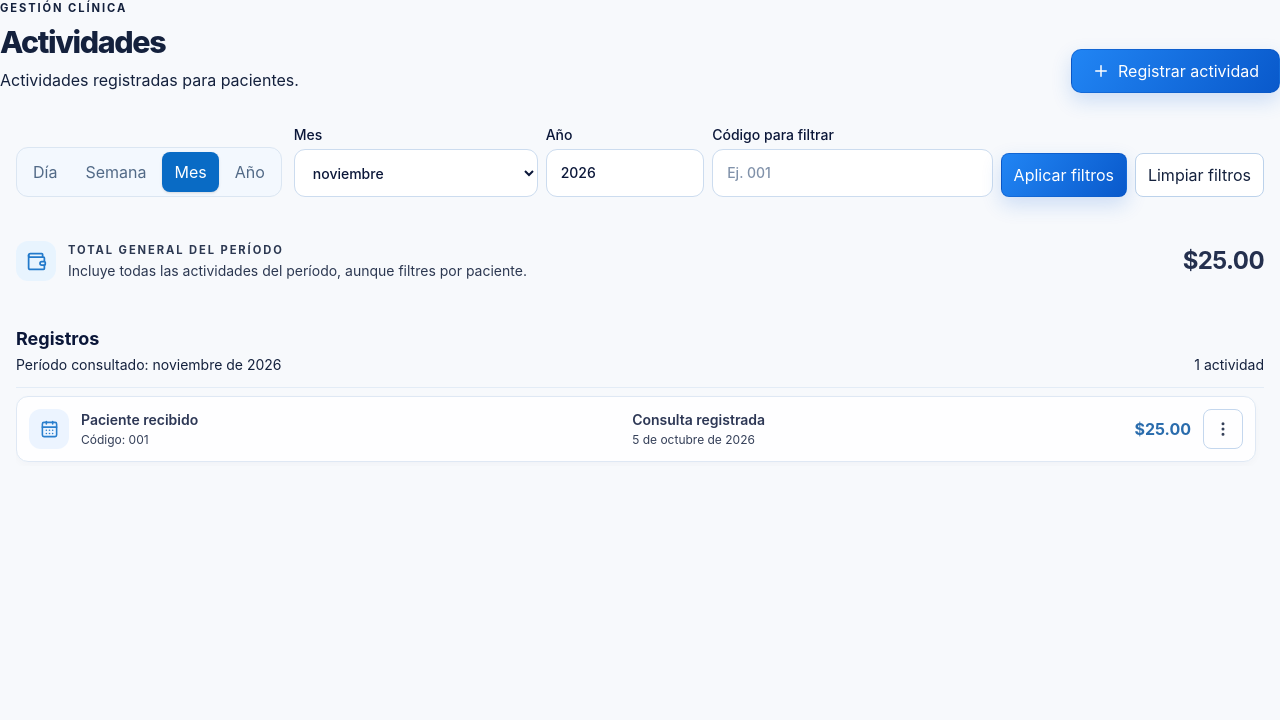
Scenario: ActivitiesPage › closes Editar actividad with a local exit transition and restores the trigger focus
Later steps or results of the test are not shown.
Expected: the text "Consulta registrada" is shown, [632,411,765,428]
Click the button named "Opciones de actividad para Paciente recibido" at {"x": 1223, "y": 429}, box [1203,409,1243,449]
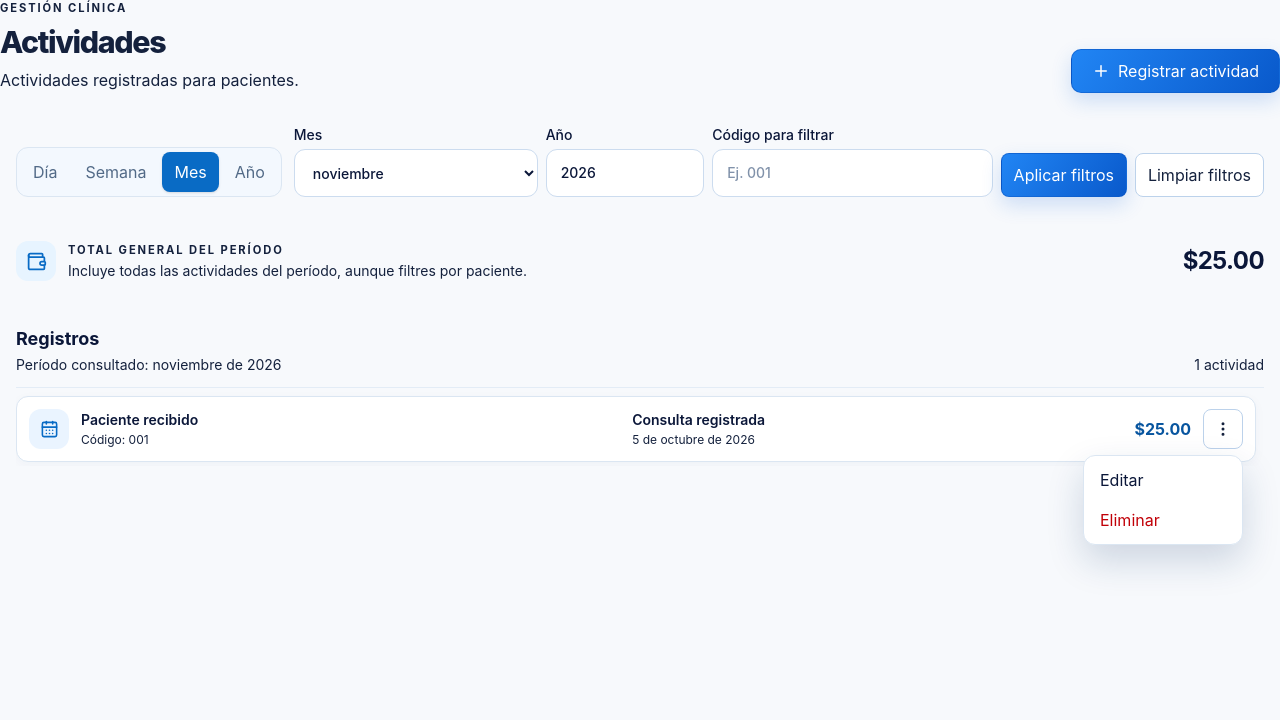
Click the menu item "Editar" at {"x": 1163, "y": 480}, box [1088,460,1238,500]
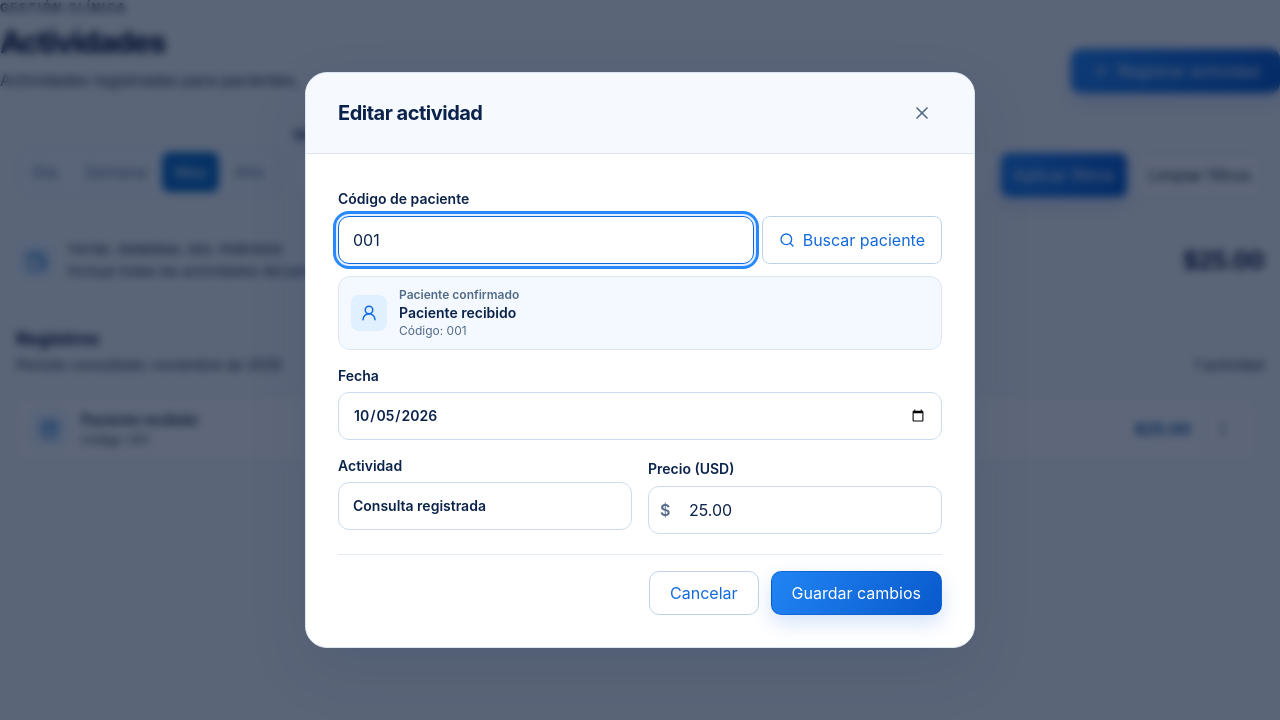
Press Escape
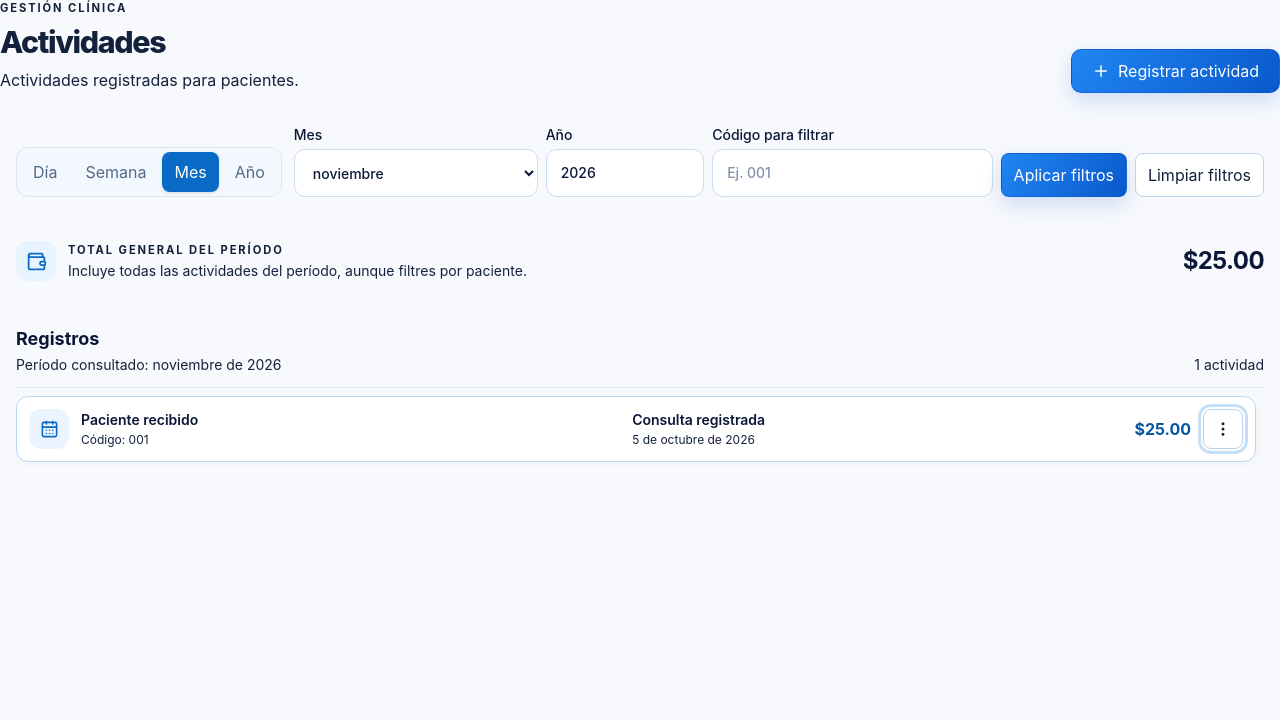
Expected: the heading "Editar actividad" is gone
